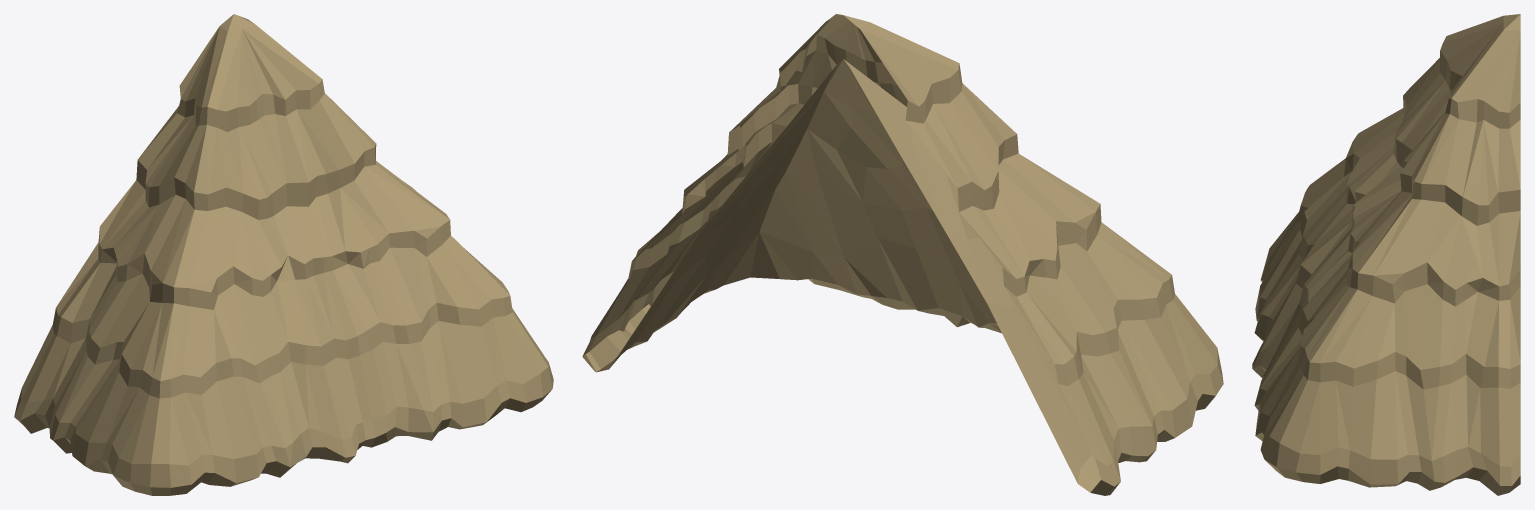
Rendered from rpgpp_ag_roof_02_6x5x3_end_02.fbx.
3 views of the same model, side by side, from view 1: azimuth 30°, elevation 25°; view 2: azimuth 150°, elevation 25°; view 3: azimuth 270°, elevation 25° (orthographic). The views are drawn at different scales.
Visible parts, largest first — view 1: rpgpp_ag_roof_02_6x5x3_end_02; view 2: rpgpp_ag_roof_02_6x5x3_end_02; view 3: rpgpp_ag_roof_02_6x5x3_end_02.
Boxes of the visible parts, x1=… form: rpgpp_ag_roof_02_6x5x3_end_02: x1=14, y1=14, x2=553, y2=495; rpgpp_ag_roof_02_6x5x3_end_02: x1=582, y1=14, x2=1223, y2=495; rpgpp_ag_roof_02_6x5x3_end_02: x1=1252, y1=14, x2=1520, y2=495.
Size of the model in its own units: 8.03 by 6.17 by 4.02.
